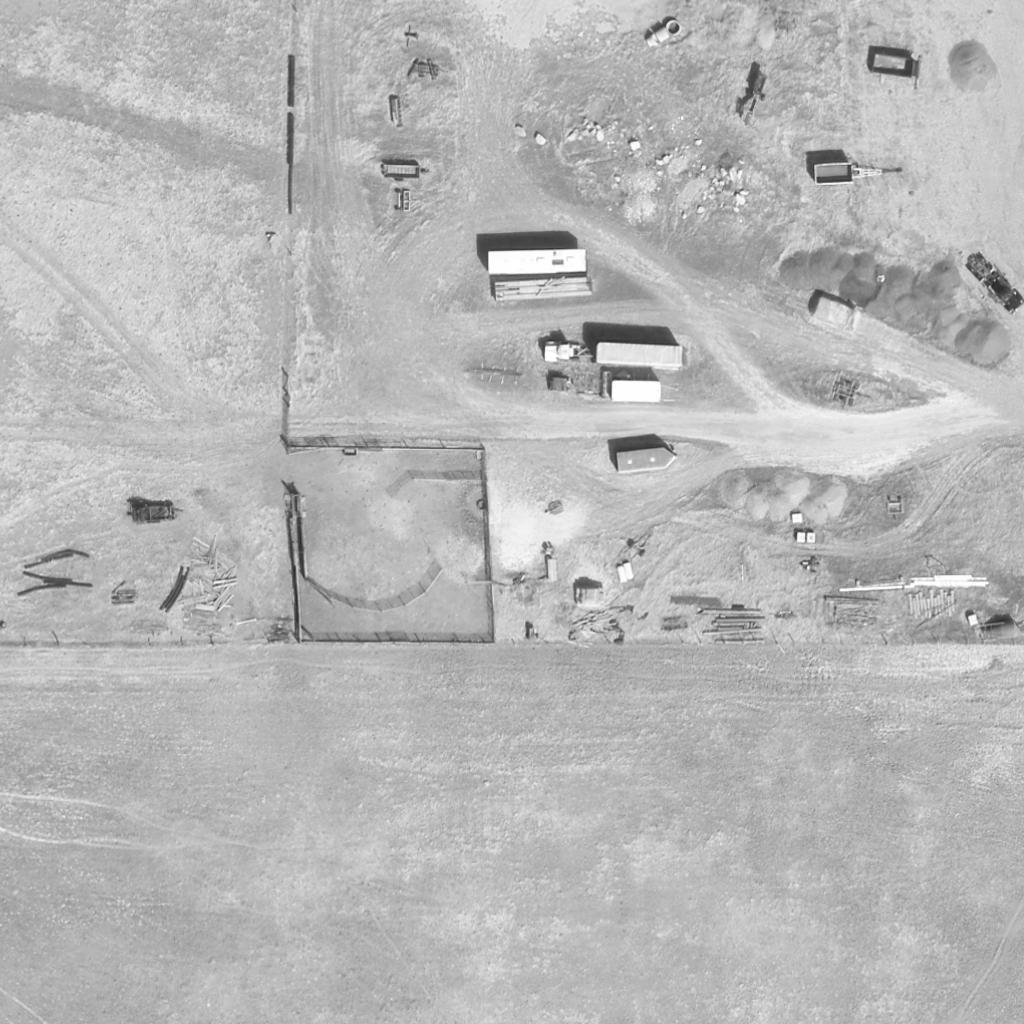vehicle: (542, 341, 684, 369), (965, 252, 1024, 314), (487, 251, 587, 273)
